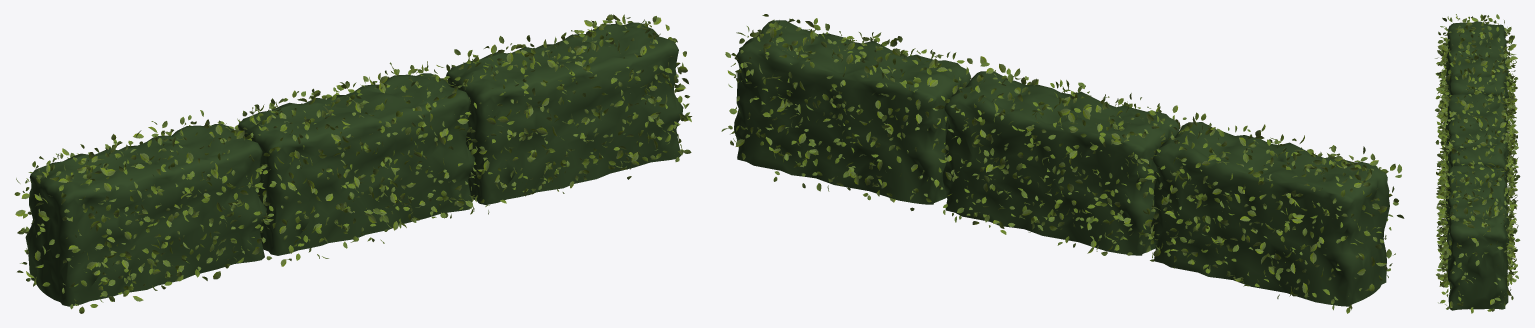
The model's file is middle-earth-bush.glb.
3 views of the same model, side by side, from view 1: azimuth 30°, elevation 25°; view 2: azimuth 150°, elevation 25°; view 3: azimuth 270°, elevation 25° (orthographic). The views are drawn at different scales.
Visible parts, largest first — view 1: Cotoneaster hedge; view 2: Cotoneaster hedge; view 3: Cotoneaster hedge.
Part boxes in pixels (<box>): Cotoneaster hedge: <box>14,14,691,313</box>; Cotoneaster hedge: <box>721,14,1404,313</box>; Cotoneaster hedge: <box>1435,14,1520,313</box>.
Size of the model in its own units: 7.43 by 1.59 by 1.23.
Materials: 4 (3 with a texture image).
